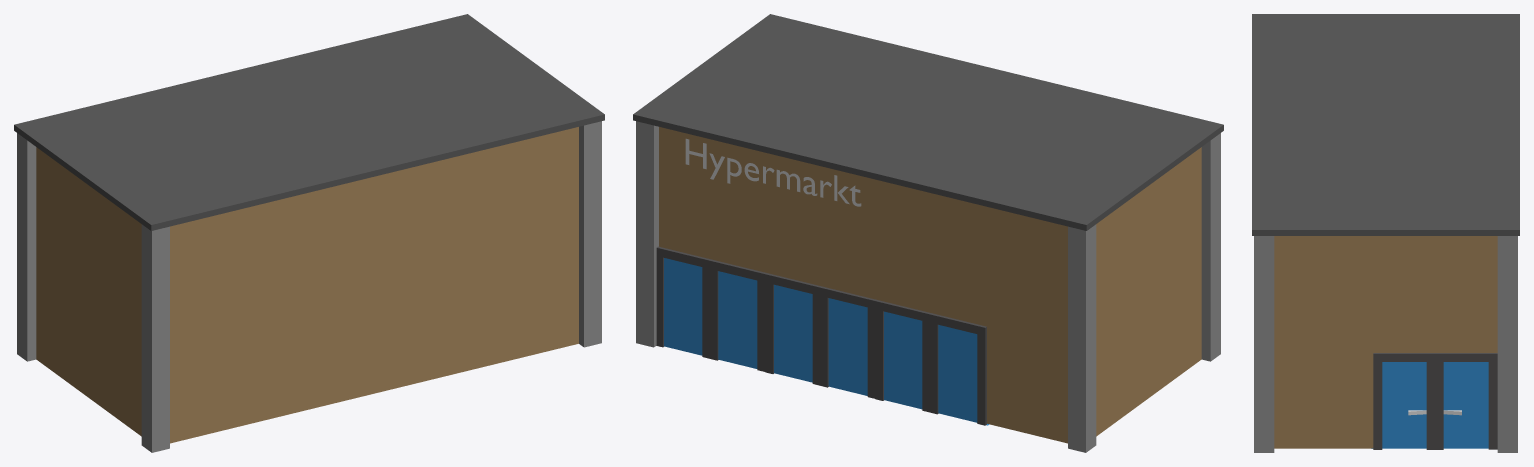
Rendered from Supermarket.fbx.
The picture shows the model from 3 angles, left to right: view 1: azimuth 30°, elevation 25°; view 2: azimuth 150°, elevation 25°; view 3: azimuth 270°, elevation 25°; orthographic projection. The views are drawn at different scales.
Parts seen in each view (by area): view 1: !main Building, Roof, Pillar.002, Pillar.001, Pillar; view 2: !main Building, Roof, Window3, Window2, Window1, Pillar, Pillar.003, Pillar.002, Text; view 3: Roof, !main Building, Window/Entrance, Pillar.001, Pillar.003, Plane.
Part boxes in pixels (x1,y1,x2,y2): !main Building: (36,127,578,443); Roof: (14,14,604,230); Pillar.002: (141,224,169,452); Pillar.001: (579,121,601,347); Pillar: (17,133,36,361); !main Building: (659,127,1201,443); Roof: (633,14,1223,230); Window3: (875,300,989,425); Window2: (765,273,876,398); Window1: (656,246,766,371); Pillar: (1068,224,1096,452); Pillar.003: (636,121,658,347); Pillar.002: (1201,133,1220,361); Text: (685,138,861,206); Roof: (1252,14,1519,235); !main Building: (1274,236,1497,448); Window/Entrance: (1371,353,1497,449); Pillar.001: (1254,236,1274,452); Pillar.003: (1497,236,1517,452); Plane: (1345,375,1373,448).
Bounding box in the file's own units: 1260 × 609 × 660.
